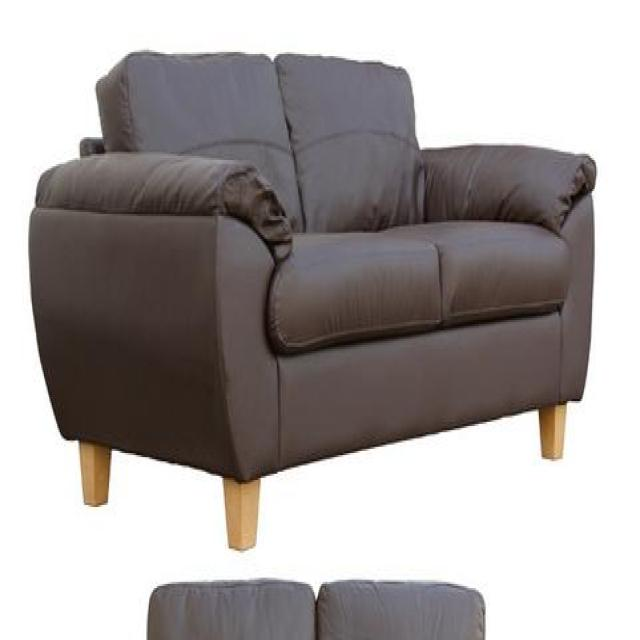sofa: (25, 41, 600, 551)
